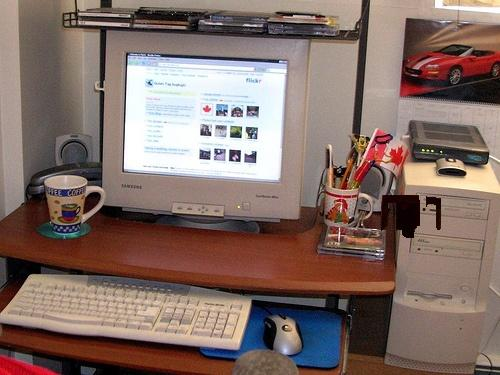tampered: (381, 196, 441, 238)
